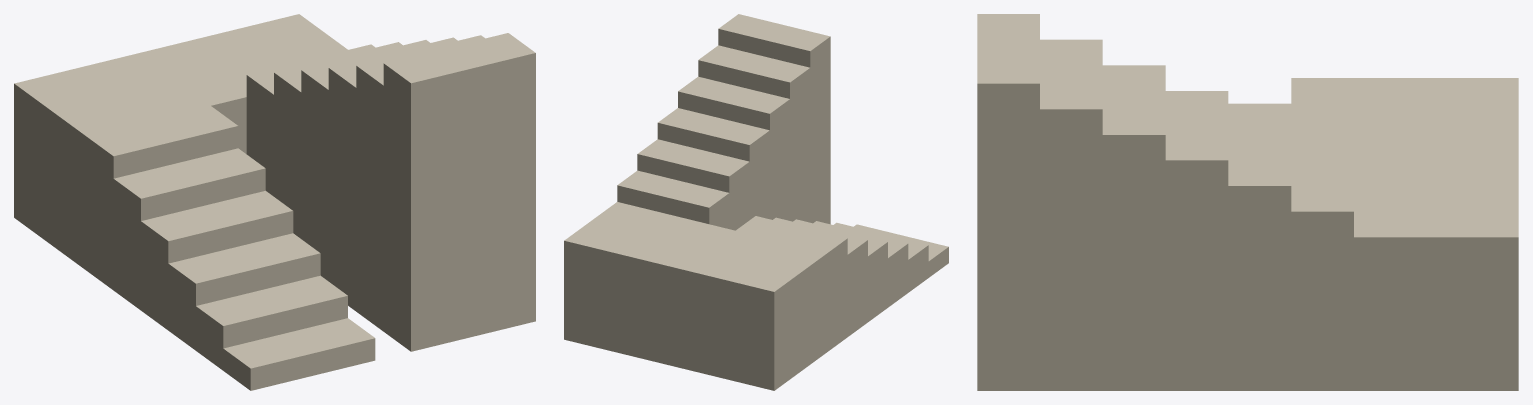
The picture shows the model from 3 angles, left to right: view 1: azimuth 30°, elevation 25°; view 2: azimuth 150°, elevation 25°; view 3: azimuth 270°, elevation 25°; orthographic projection. The views are drawn at different scales.
Visible parts, largest first — view 1: WholeHalfTurnParallelFlightsAndLanding; view 2: WholeHalfTurnParallelFlightsAndLanding; view 3: WholeHalfTurnParallelFlightsAndLanding.
Part boxes in pixels (x1,y1,x2,y2): WholeHalfTurnParallelFlightsAndLanding: (14,14,535,390); WholeHalfTurnParallelFlightsAndLanding: (564,14,948,390); WholeHalfTurnParallelFlightsAndLanding: (977,14,1518,390).
Size of the model in its own units: 2.4 by 2.16 by 3.45.
